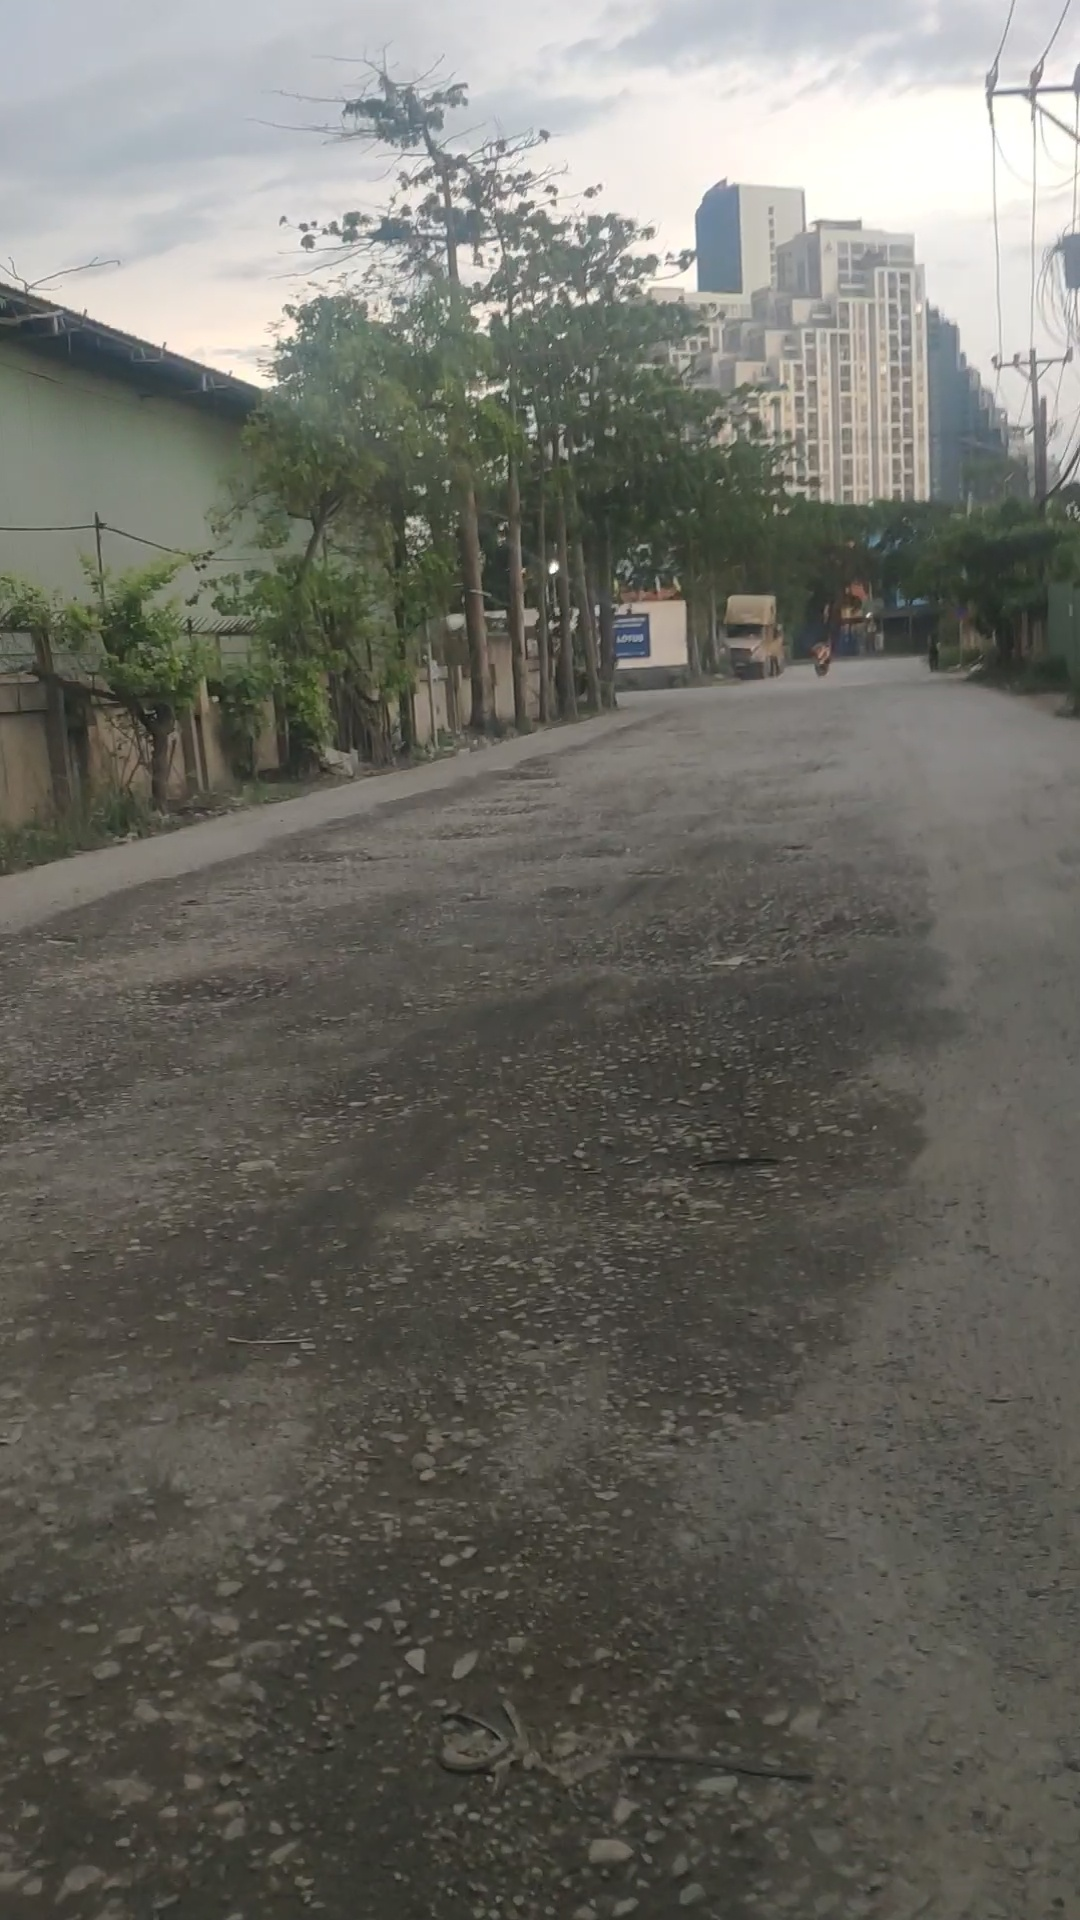hole: (430, 988, 945, 1258), (578, 843, 927, 992), (291, 1046, 431, 1138), (124, 961, 305, 1015), (270, 847, 386, 872), (410, 822, 513, 845), (537, 837, 632, 862), (435, 800, 560, 819), (477, 766, 566, 781)
